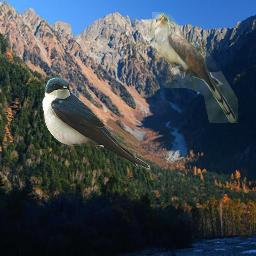Cuckoo: (152, 12, 238, 123)
Swallow: (42, 77, 150, 169)
